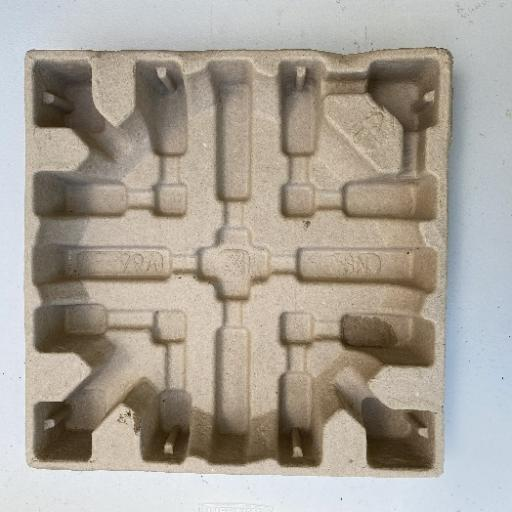Cardboard: (24, 47, 452, 473)
